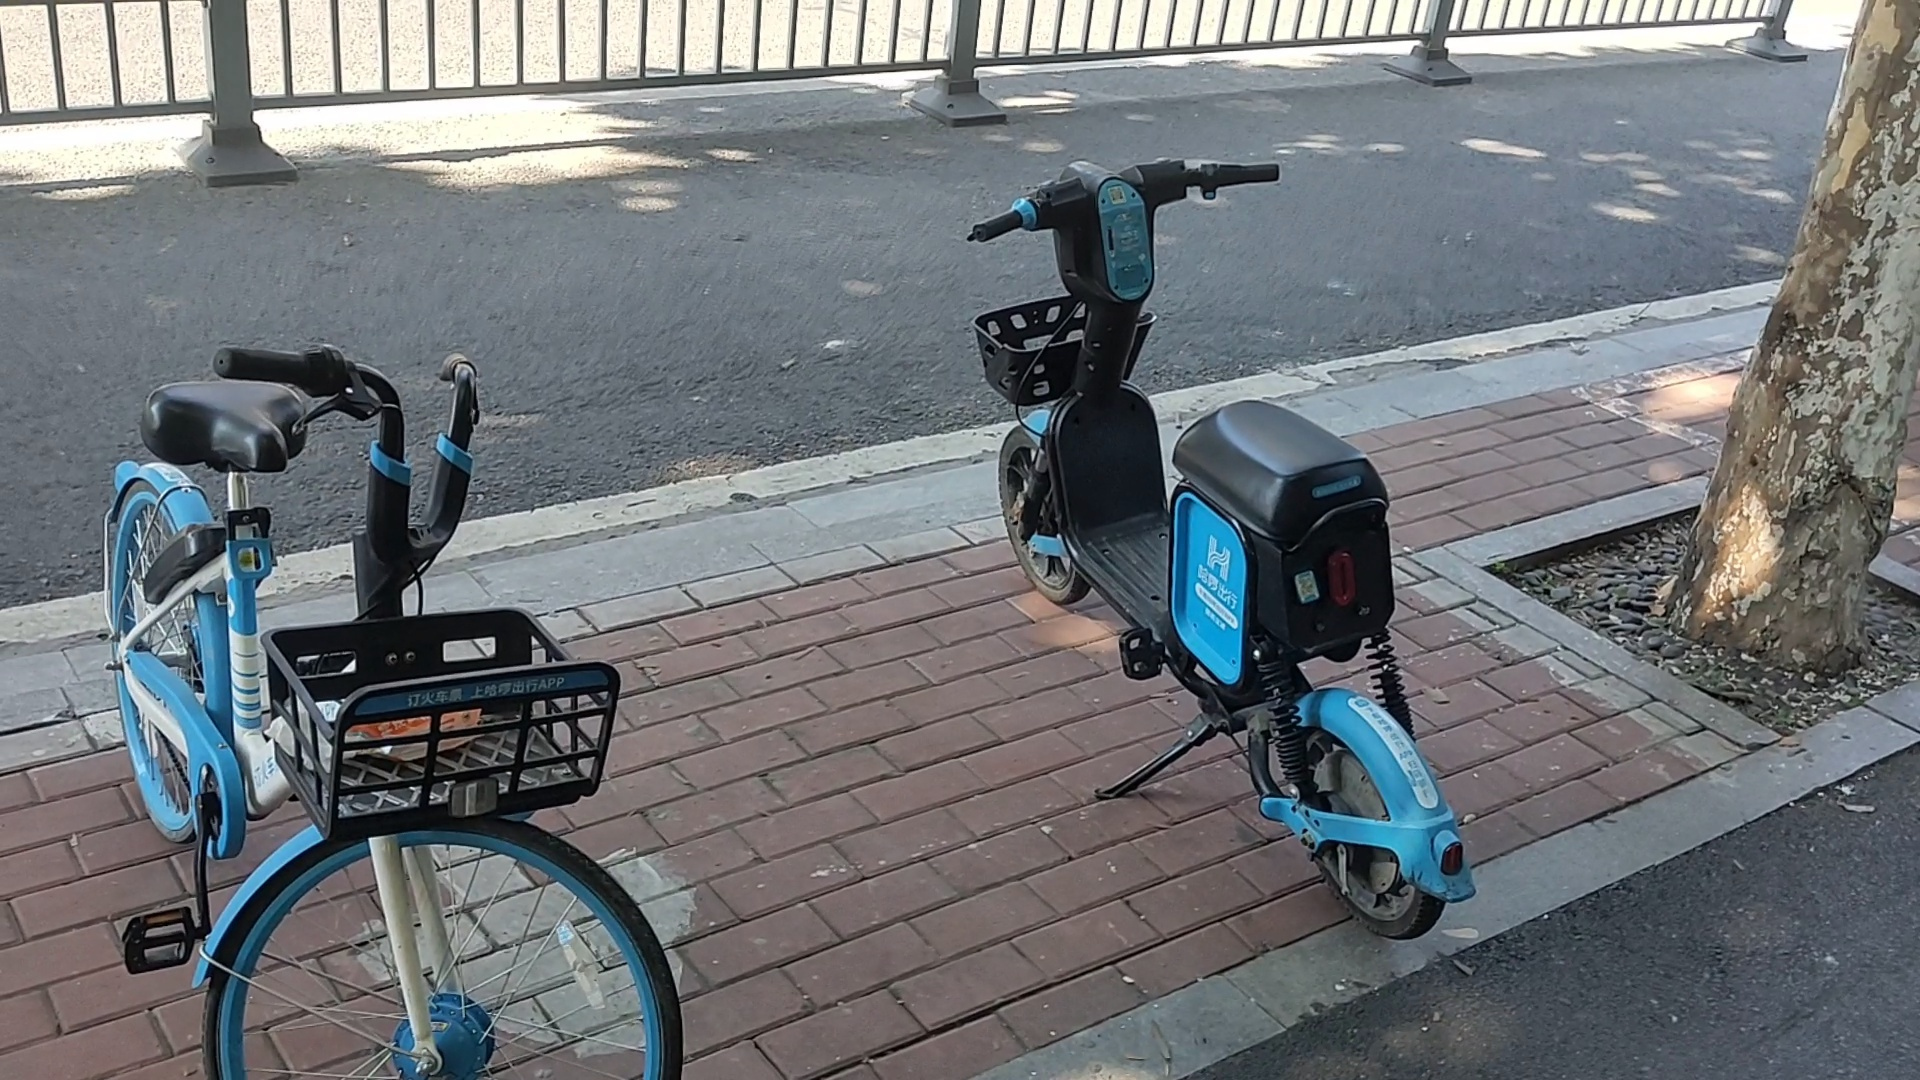non-vehicle: (61, 322, 682, 1080), (963, 146, 1495, 943)
